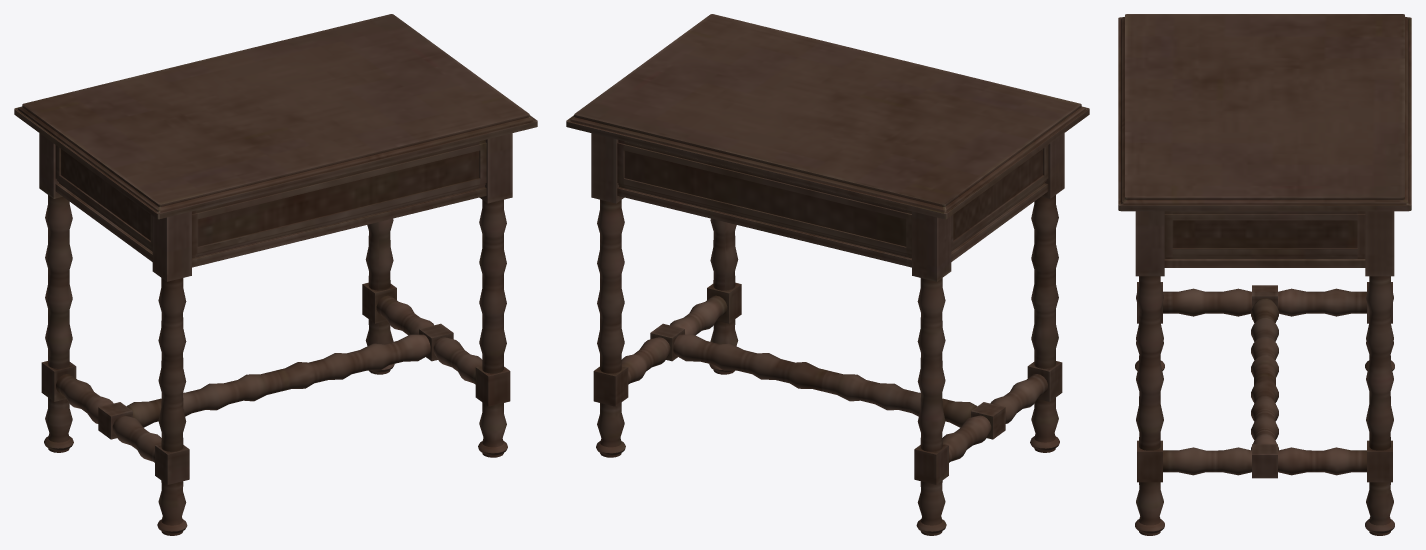
File: table-side.glb
The picture shows the model from 3 angles, left to right: view 1: azimuth 30°, elevation 25°; view 2: azimuth 150°, elevation 25°; view 3: azimuth 270°, elevation 25°; orthographic projection.
Visible parts, largest first — view 1: table-side; view 2: table-side; view 3: table-side.
Boxes of the visible parts, x1=… form: table-side: x1=14, y1=14, x2=537, y2=535; table-side: x1=566, y1=14, x2=1089, y2=535; table-side: x1=1118, y1=14, x2=1411, y2=535.
Size of the model in its own units: 0.7798 by 0.6681 by 0.5126.
1 material, 1 textured.
